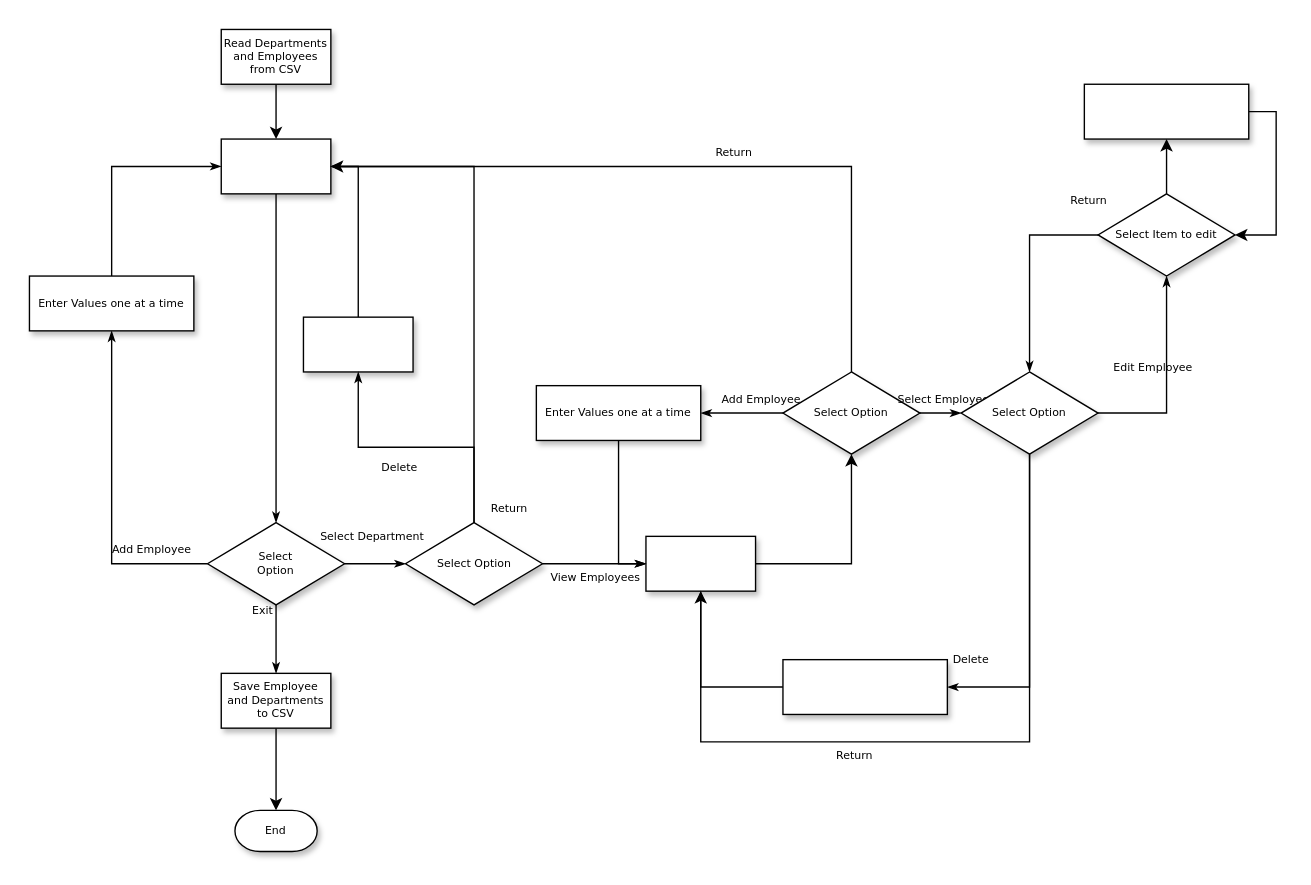
Image size: 1311x885. Some labels were removed from this diagram. Here are the shapes that lost their labels. From the top down, the centre of each, then its label:
At (1167,113): "Enter new Value".
At (276,167): "Displays list of Departments".
At (359,346): "Delete Department from list".
At (701,565): "Displays list of Employees".
At (866,688): "Delete Employee from Department".
